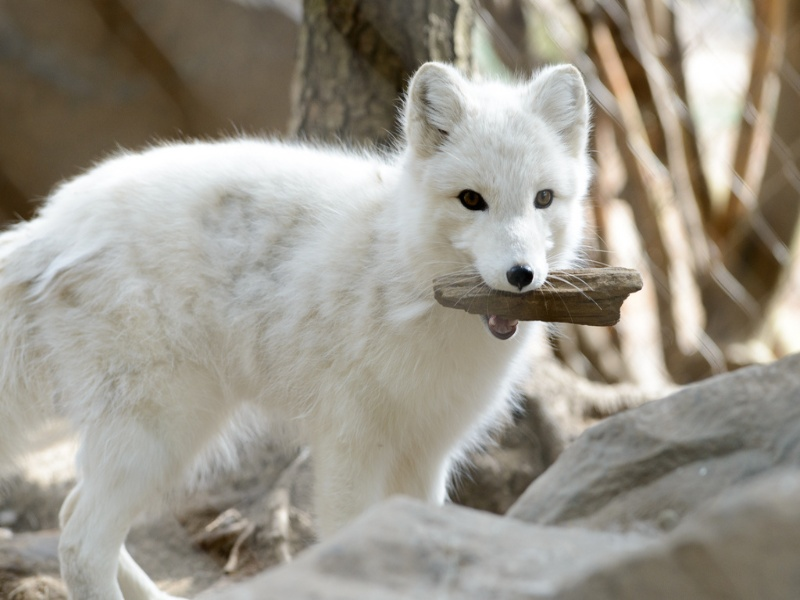fox: (1, 53, 613, 596)
